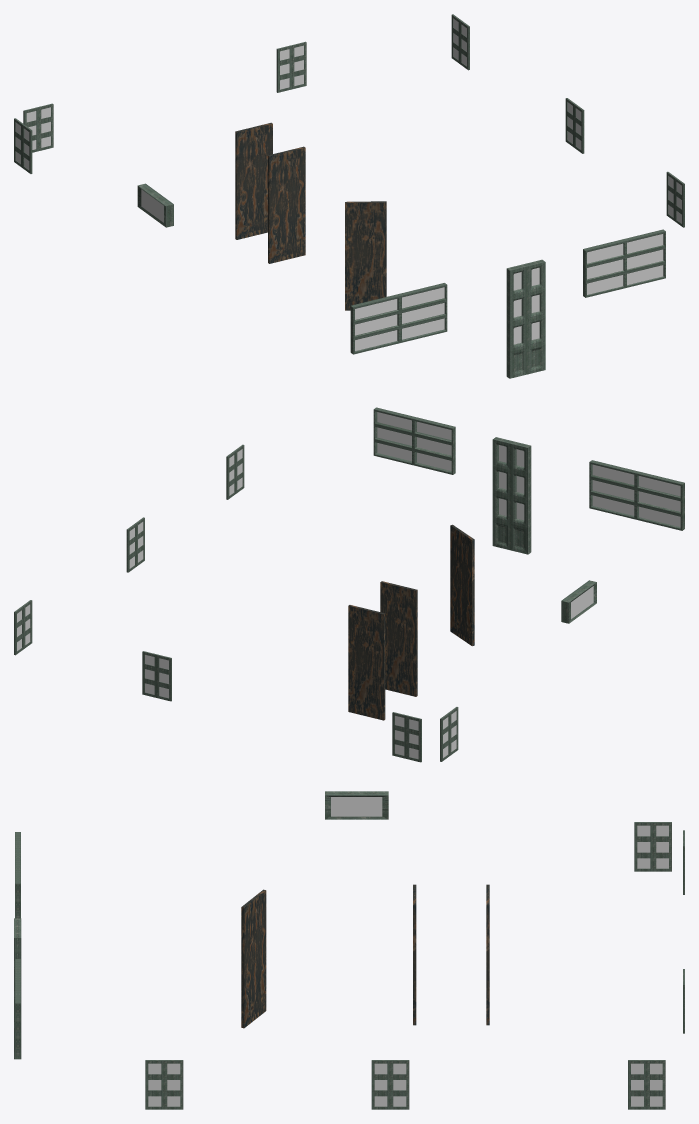
The model's file is PuertasYVentanas.fbx.
3 renders of one model, top to bottom at view 1: azimuth 30°, elevation 25°; view 2: azimuth 150°, elevation 25°; view 3: azimuth 270°, elevation 25°, orthographic. The views are drawn at different scales.
Parts seen in each view (by area): view 1: Puerta.002, Puerta.003, Puerta, Puerta.001, Vidrio ventana, Ventana vidrio.001, Ventana, Ventana.001, Ventana.005, Ventana.006, Vidrio puerta, Ventana.003 (+4 smaller); view 2: Puerta.001, Puerta, Puerta.003, Vidrio ventana, Puerta.002, Ventana, Ventana vidrio.001, Ventana.001, Ventana.005, Ventana.006, Ventana.002, Ventana.003 (+4 smaller); view 3: Puerta.002, Ventana.002, Ventana.003, Ventana.004, Ventana.007, Vidrio ventana.001, Ventana.008, Ventana.001, Puerta.001, Puerta.003, Puerta, Ventana.
Boxes of the visible parts, x1,y1,x2,y2 form: Puerta.002: [345, 201, 386, 310]; Puerta.003: [268, 146, 305, 263]; Puerta: [506, 259, 545, 378]; Puerta.001: [235, 122, 272, 239]; Vidrio ventana: [355, 287, 444, 350]; Ventana vidrio.001: [587, 234, 663, 294]; Ventana: [350, 283, 447, 354]; Ventana.001: [583, 229, 665, 297]; Ventana.005: [276, 41, 306, 92]; Ventana.006: [23, 103, 53, 152]; Vidrio puerta: [513, 267, 539, 344]; Ventana.003: [565, 98, 584, 153]; Puerta.001: [348, 605, 385, 720]; Puerta: [492, 437, 531, 554]; Puerta.003: [380, 581, 417, 696]; Vidrio ventana: [592, 464, 680, 527]; Puerta.002: [450, 524, 474, 646]; Ventana: [589, 460, 684, 530]; Ventana vidrio.001: [377, 412, 451, 470]; Ventana.001: [373, 407, 455, 474]; Ventana.005: [142, 651, 171, 701]; Ventana.006: [392, 712, 421, 762]; Ventana.002: [226, 444, 244, 499]; Ventana.003: [126, 517, 144, 572]; Puerta.002: [241, 889, 266, 1028]; Ventana.002: [145, 1060, 183, 1109]; Ventana.003: [371, 1060, 409, 1109]; Ventana.004: [628, 1060, 665, 1109]; Ventana.007: [634, 822, 671, 871]; Vidrio ventana.001: [331, 797, 382, 816]; Ventana.008: [325, 791, 388, 819]; Ventana.001: [15, 959, 20, 1055]; Puerta.001: [486, 884, 489, 1025]; Puerta.003: [413, 884, 416, 1025]; Puerta: [14, 918, 21, 1059]; Ventana: [15, 832, 20, 918].
Bounding box in the file's own units: 931 × 246 × 1098.
